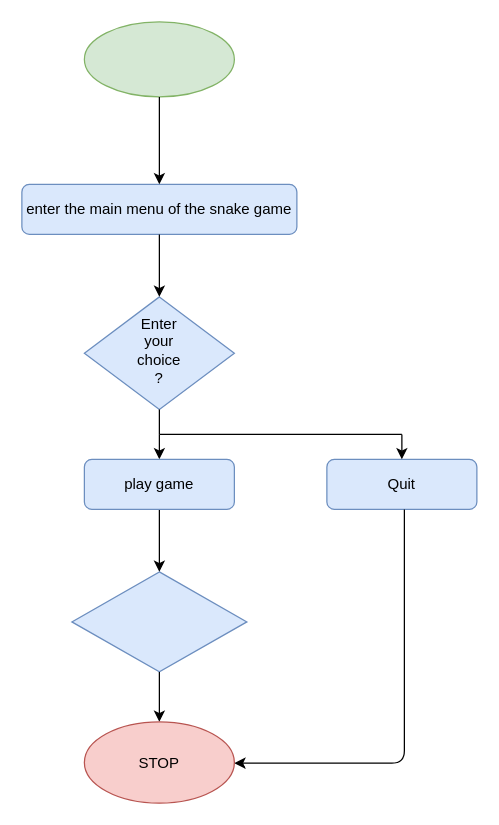
This 499x825 diagram has some shape labels left out. The shapes that lost their labels are listed below. From the top down, each one's centre as x and y in pixels, then its label:
(x=158, y=59): START
(x=159, y=621): Do you want to continue
